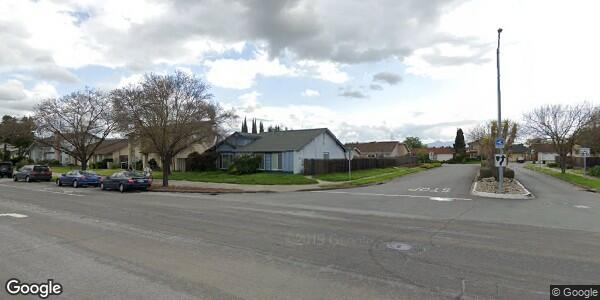Steel_Pole: (490, 24, 513, 199)
